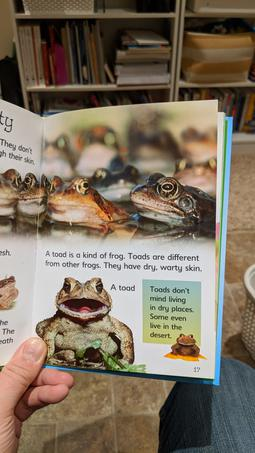text block: (39, 240, 205, 275), (144, 282, 200, 346), (1, 137, 43, 170), (105, 276, 140, 296), (1, 318, 20, 353), (1, 109, 19, 139), (1, 246, 19, 261)
